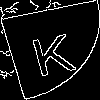K: (25, 24, 79, 78)
